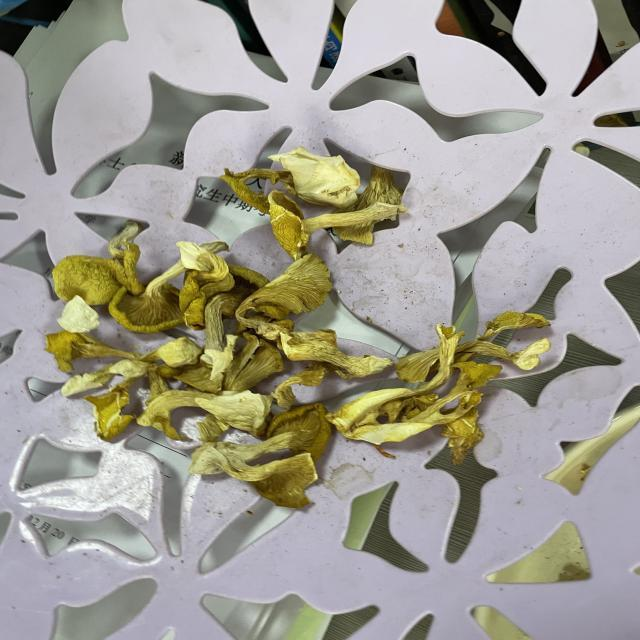Pleurotus citrinopileatus: (298, 182, 640, 445), (407, 62, 620, 238), (201, 182, 346, 313)
